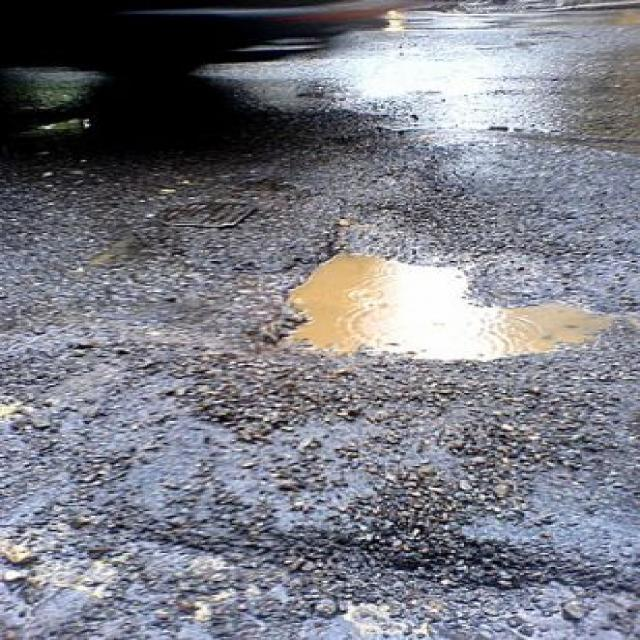pothole: (259, 240, 611, 364)
